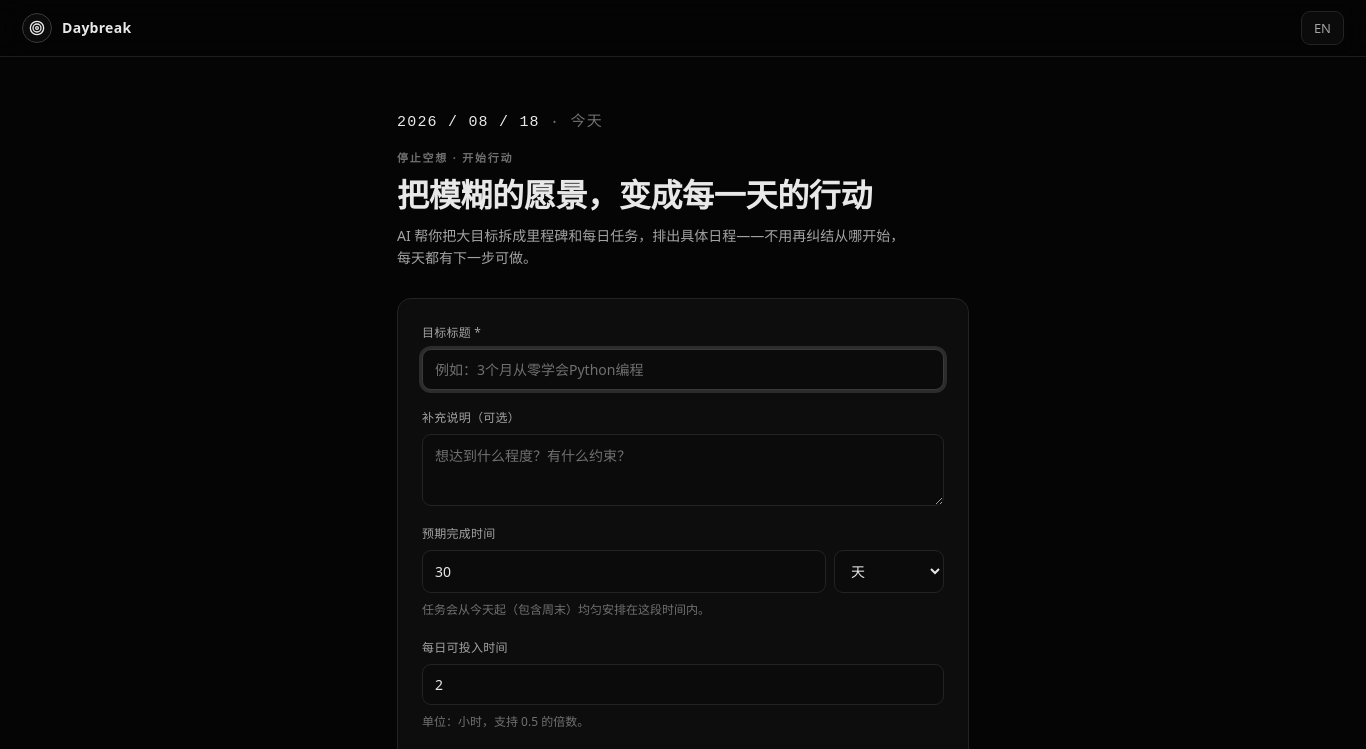
Test case: GoalInput duration scheduling › rejects daily hours that are zero
Type "学习 Python" into the field labelled "目标标题 *". click: [683, 370]
box: [422,349,944,390]
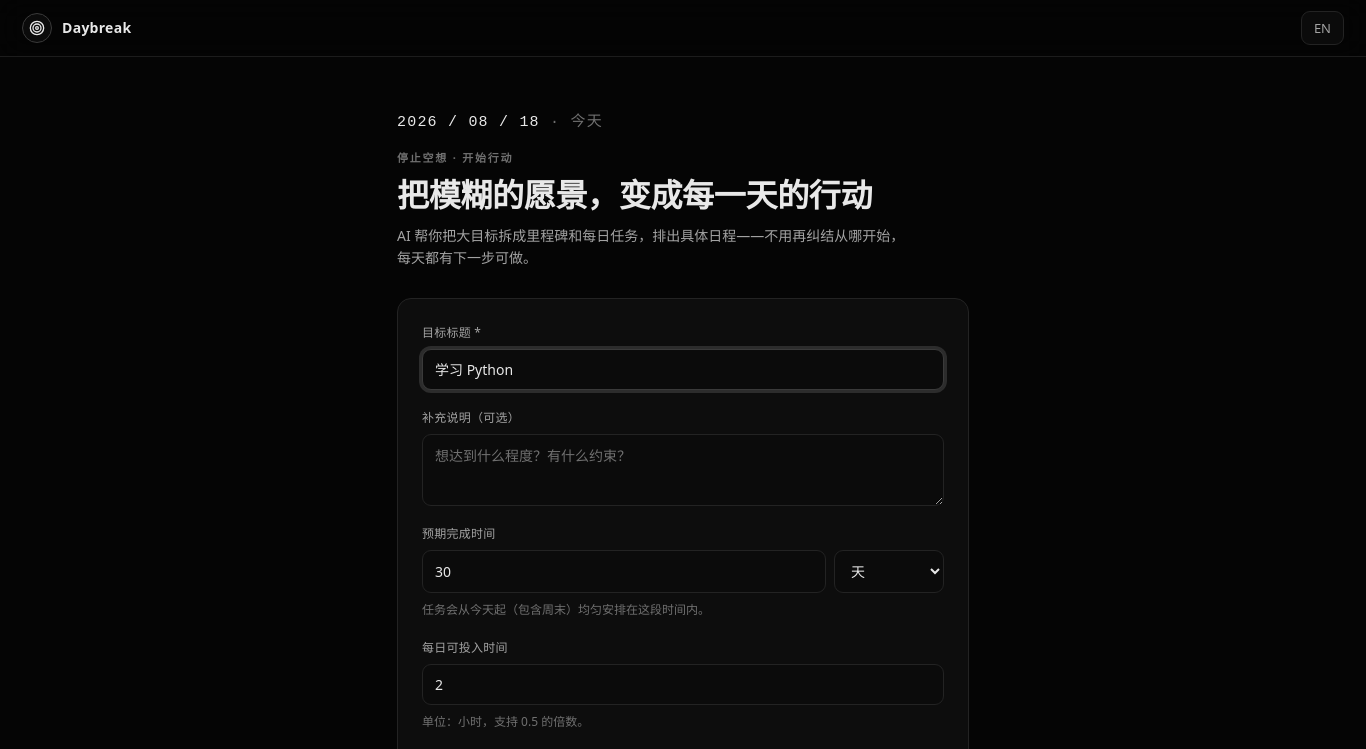
Replace the text in the number field labelled "每日可投入时间" with "0". click: [683, 684]
box: [422,664,944,705]
(page scrolled)
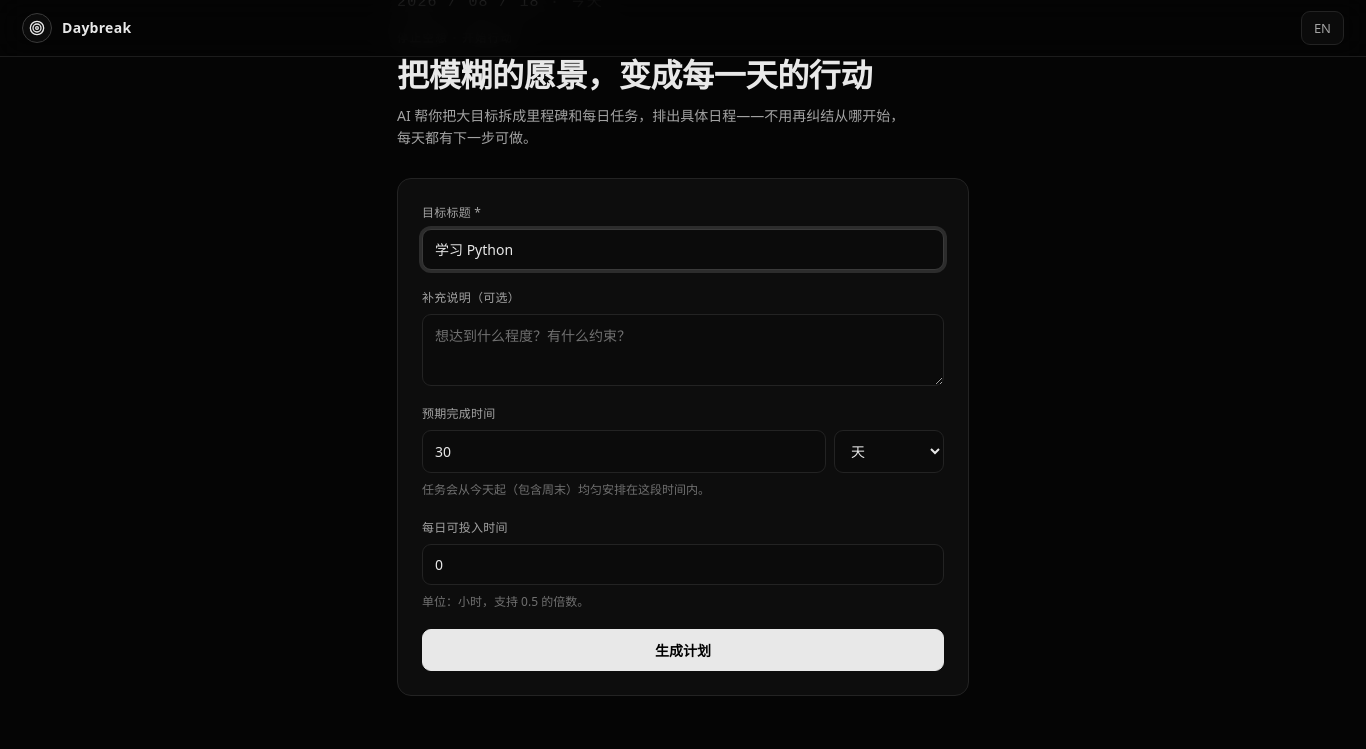
Click the button "生成计划". click: [683, 650]
box: [422,629,944,671]
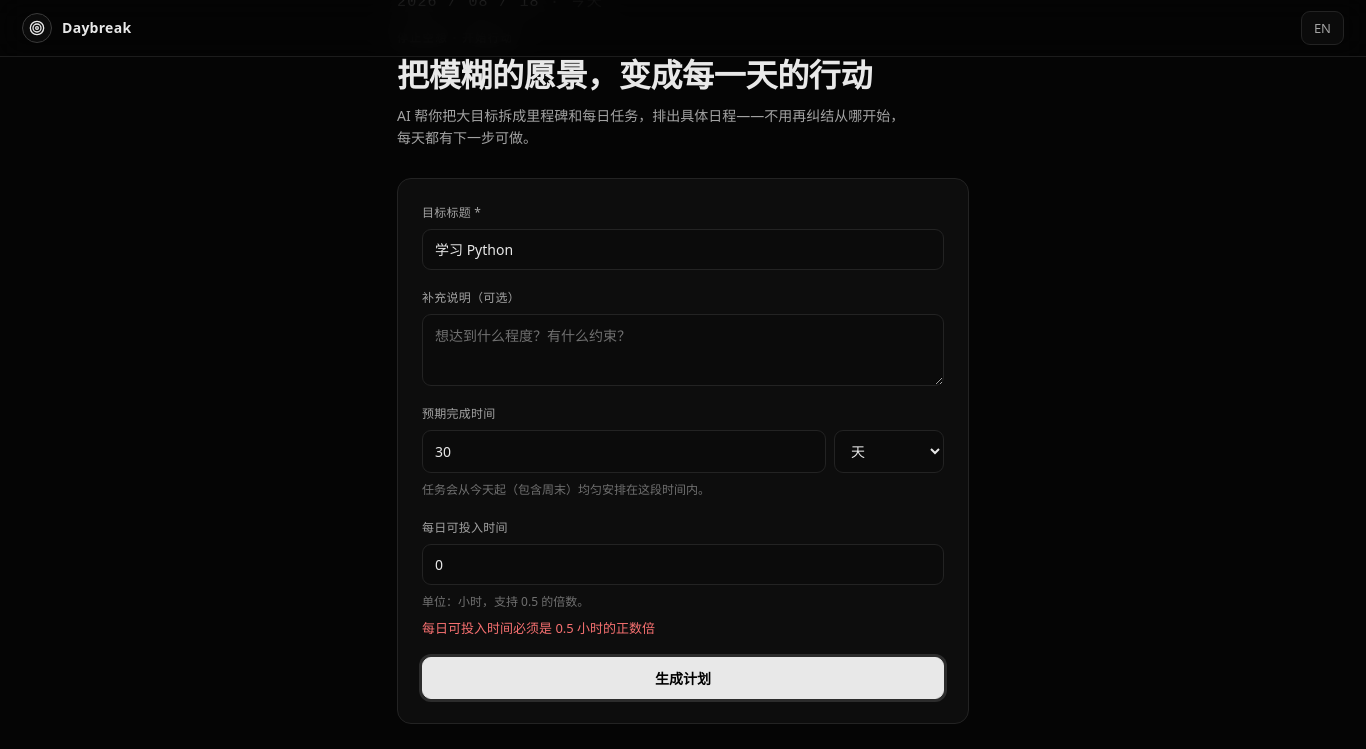
Expected: the message reads "每日可投入时间必须是 0.5 小时的正数倍", [422,619,655,637]
